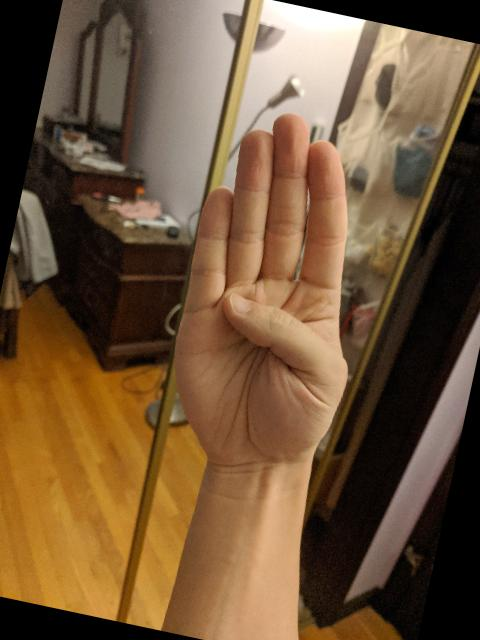B: (143, 94, 406, 494)
